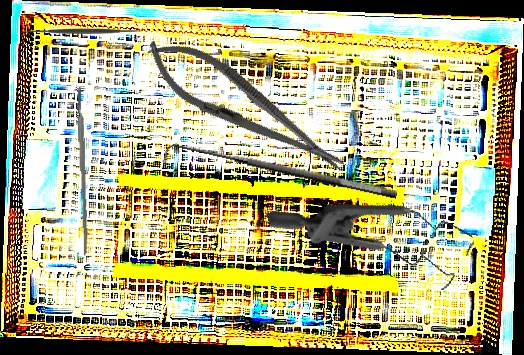Hook Surgical: (160, 133, 399, 218)
Needle Holder: (133, 22, 357, 193)
Scalpel Handle: (76, 84, 90, 257)
Spatula Surgical: (24, 25, 143, 38)
Speculum: (266, 150, 486, 338)
